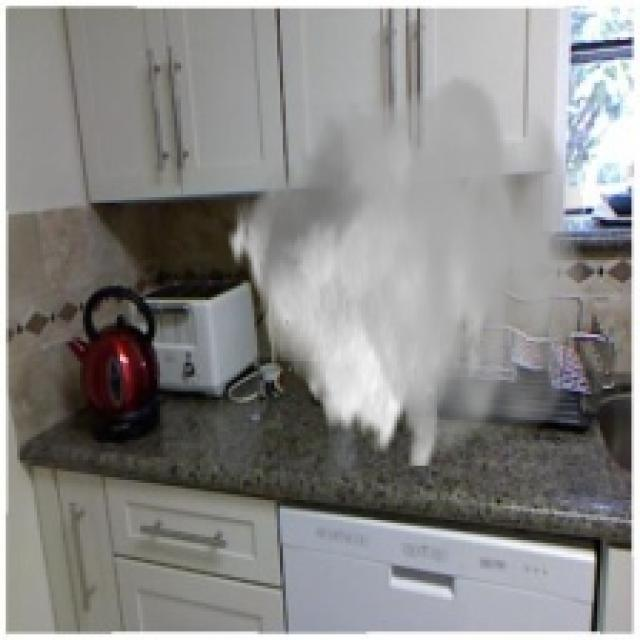Smoke: (226, 68, 588, 466)
